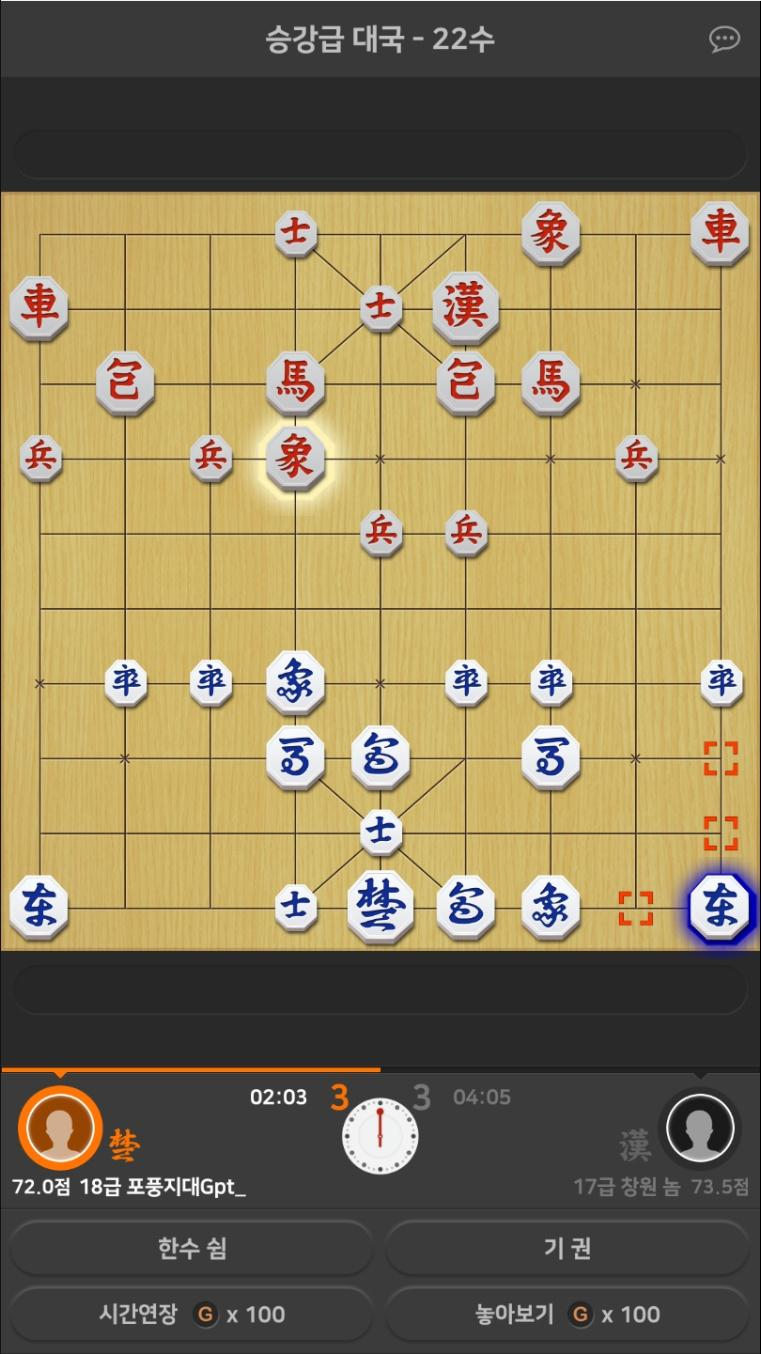cha_green: (8, 876, 70, 939), (692, 874, 749, 936)
cha_red: (9, 277, 71, 341), (687, 200, 749, 263)
jol_green: (442, 658, 489, 713), (190, 658, 233, 712), (699, 658, 745, 707), (529, 659, 573, 707), (105, 659, 149, 705)
jol_red: (191, 435, 232, 485), (21, 435, 62, 485), (617, 435, 657, 484), (447, 509, 487, 556), (363, 507, 402, 555)
ma_green: (523, 726, 582, 790), (266, 726, 321, 790)
ma_red: (523, 350, 577, 414), (268, 355, 323, 416)
po_green: (354, 726, 410, 792), (438, 878, 494, 942)
po_red: (94, 350, 154, 416), (437, 350, 493, 416)
sa_green: (357, 808, 403, 851), (277, 884, 317, 932)
sa_red: (276, 210, 316, 257), (362, 286, 402, 333)
sang_green: (263, 648, 325, 718), (523, 874, 580, 940)
sang_red: (517, 200, 584, 265), (265, 427, 327, 490)
wang_green: (348, 873, 411, 945)
wang_red: (434, 273, 500, 342)
